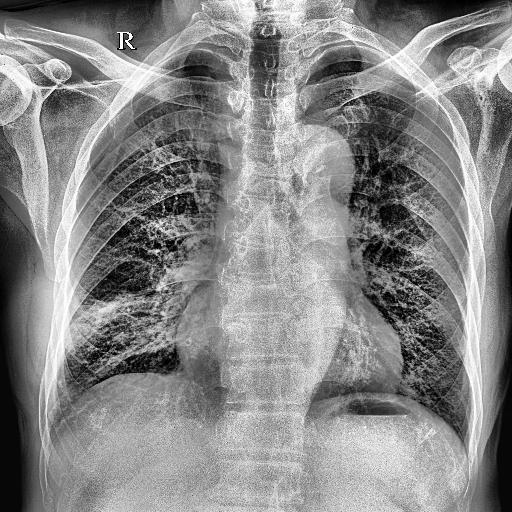0- Aortic enlargement: (204, 110, 362, 216)
5- ILD: (44, 70, 228, 426), (306, 80, 472, 442), (44, 143, 210, 433), (361, 230, 467, 438)
6- Infiltration: (34, 294, 186, 374)
7- Lung Opacity: (62, 244, 177, 380)
